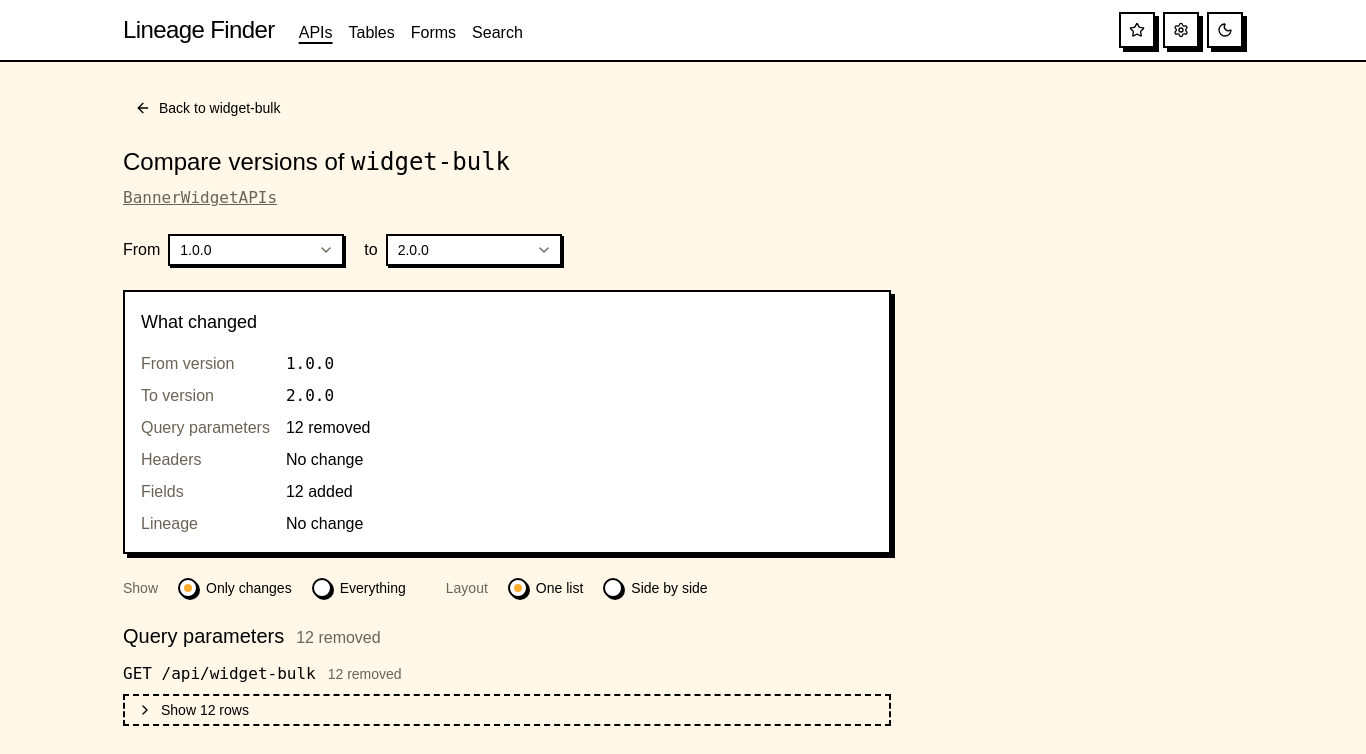
Test: folding › folds a list of more than 10 rows behind one Show button, which then hides it again
The width and height of the screenshot is (1366, 754).
Click the button "Show 12 rows". click: click(205, 710)
box: top-left (123, 694), bottom-right (891, 726)
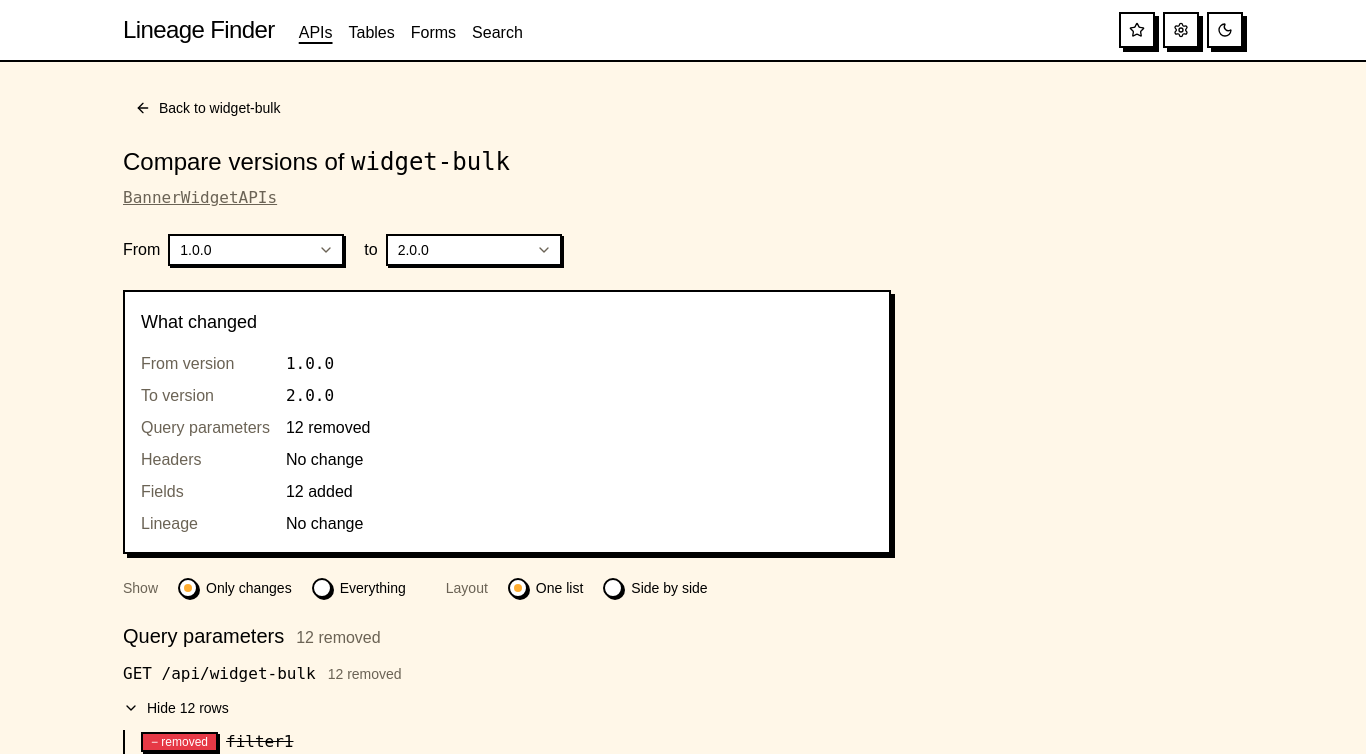
Click the button "Hide 12 rows". click: click(176, 708)
box: top-left (111, 694), bottom-right (241, 722)
(page scrolled)
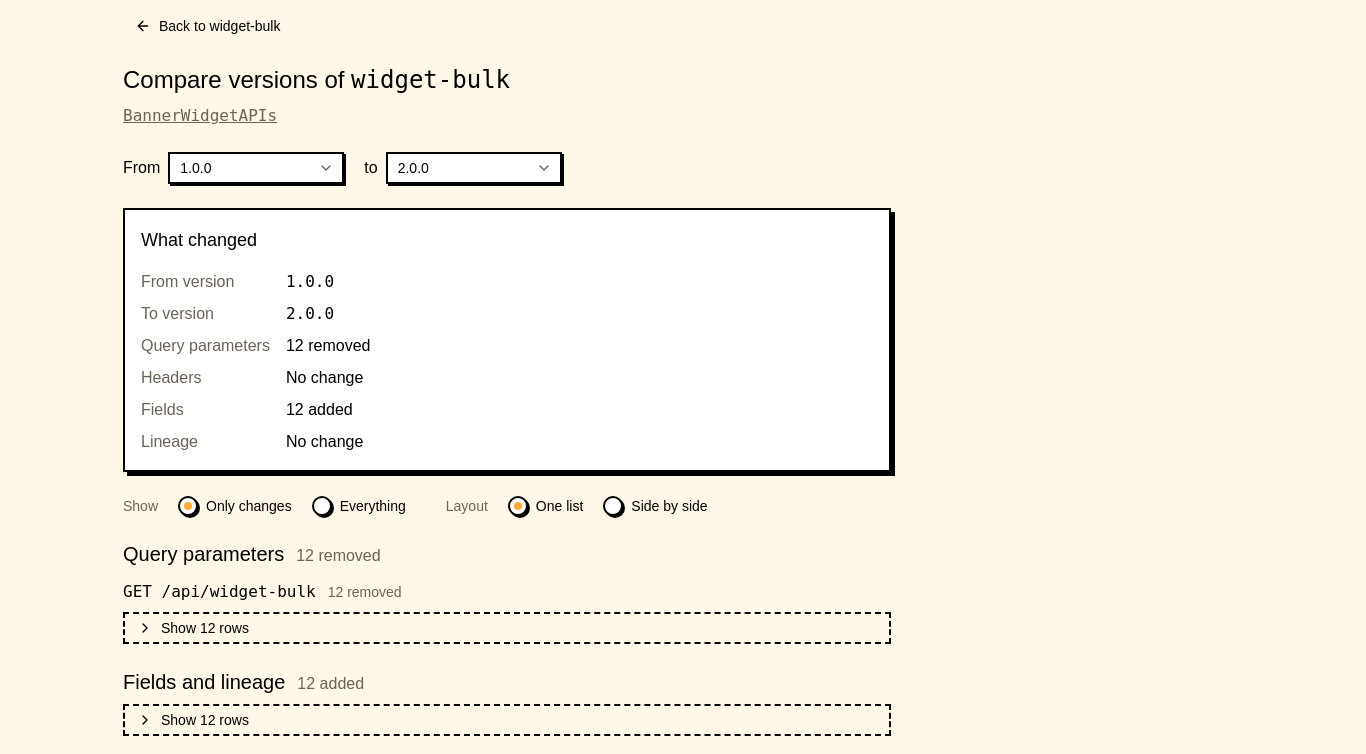
Expected: the element showing "Fields and lineage 12 added Show 12 rows" is shown, top-left (123, 671), bottom-right (891, 736)
Now the text "filter1" is gone
